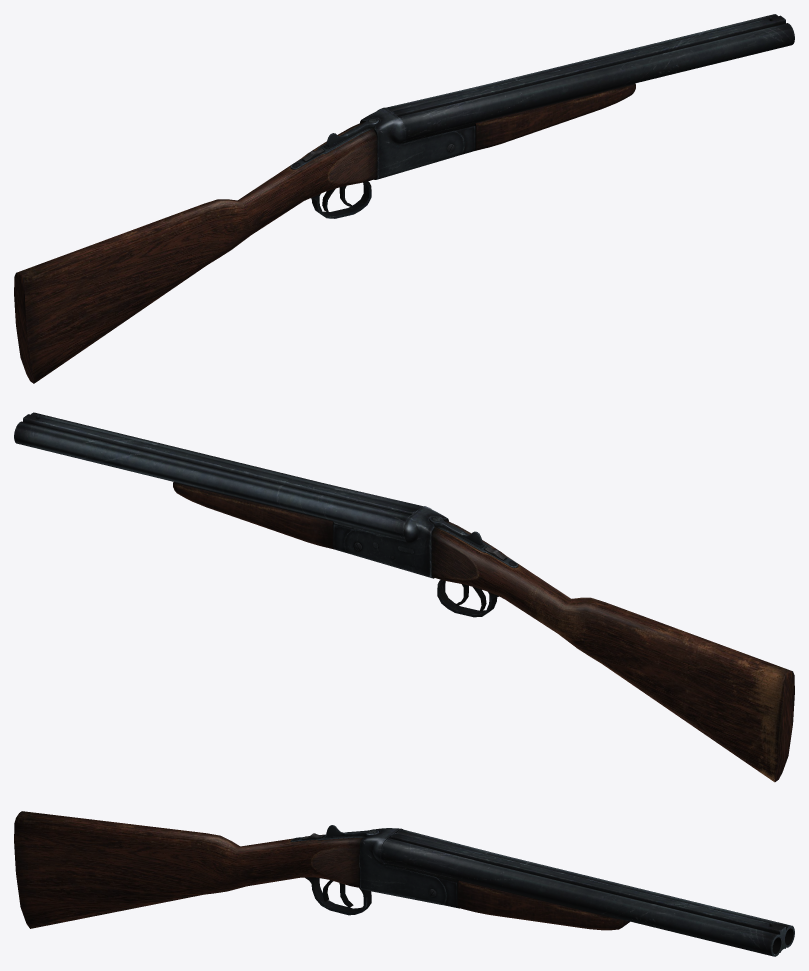
File: BoomStick gun.fbx
3 views of the same model, one above another, from view 1: azimuth 30°, elevation 25°; view 2: azimuth 150°, elevation 25°; view 3: azimuth 330°, elevation 25° (orthographic).
Visible parts, largest first — view 1: BoomStick_Trip; view 2: BoomStick_Trip; view 3: BoomStick_Trip.
Boxes of the visible parts, left/top/right/bottom form: BoomStick_Trip: left=14, top=14, right=794, bottom=383; BoomStick_Trip: left=14, top=412, right=794, bottom=782; BoomStick_Trip: left=14, top=811, right=794, bottom=956.
Bounding box in the file's own units: 48.03 × 11.12 × 2.76.
